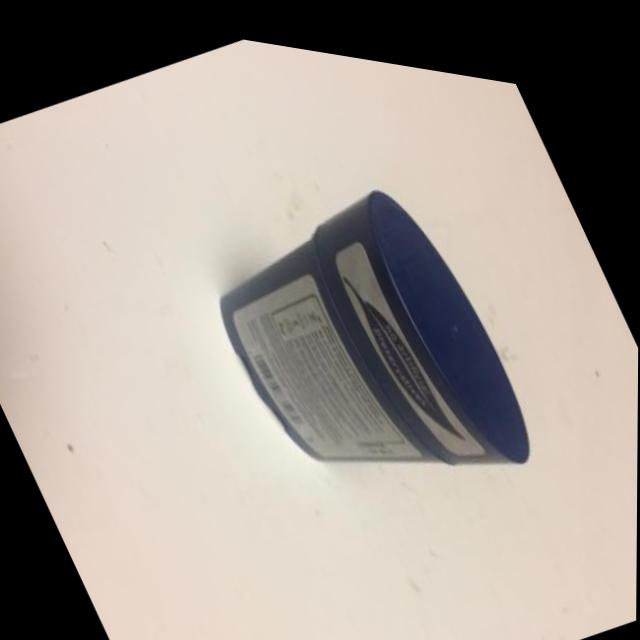trash: (40, 33, 638, 640)
